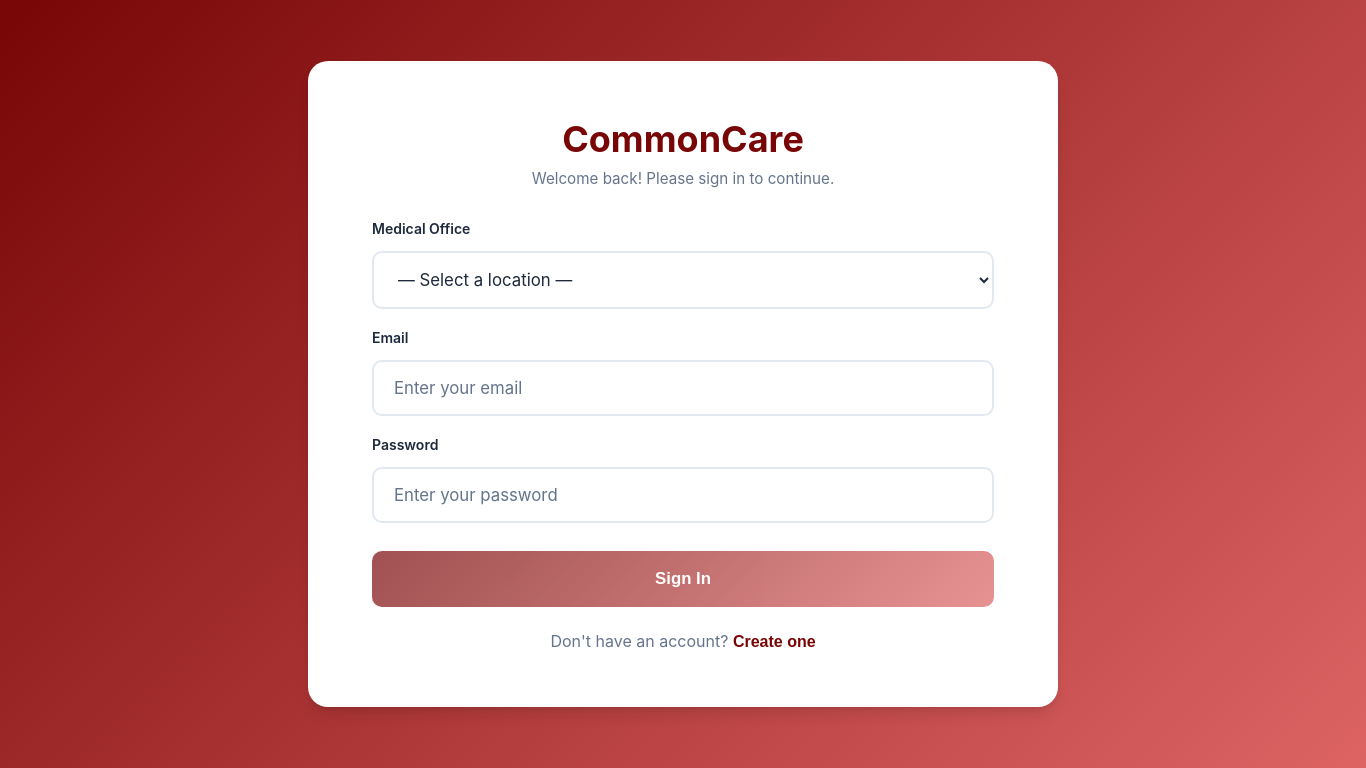
Scenario: Login component › location selection › auto-fills password when a location is selected
Select "Charlotte Medical Center" in the dropdown labelled "Medical Office": (683, 280) [372,251,994,309]
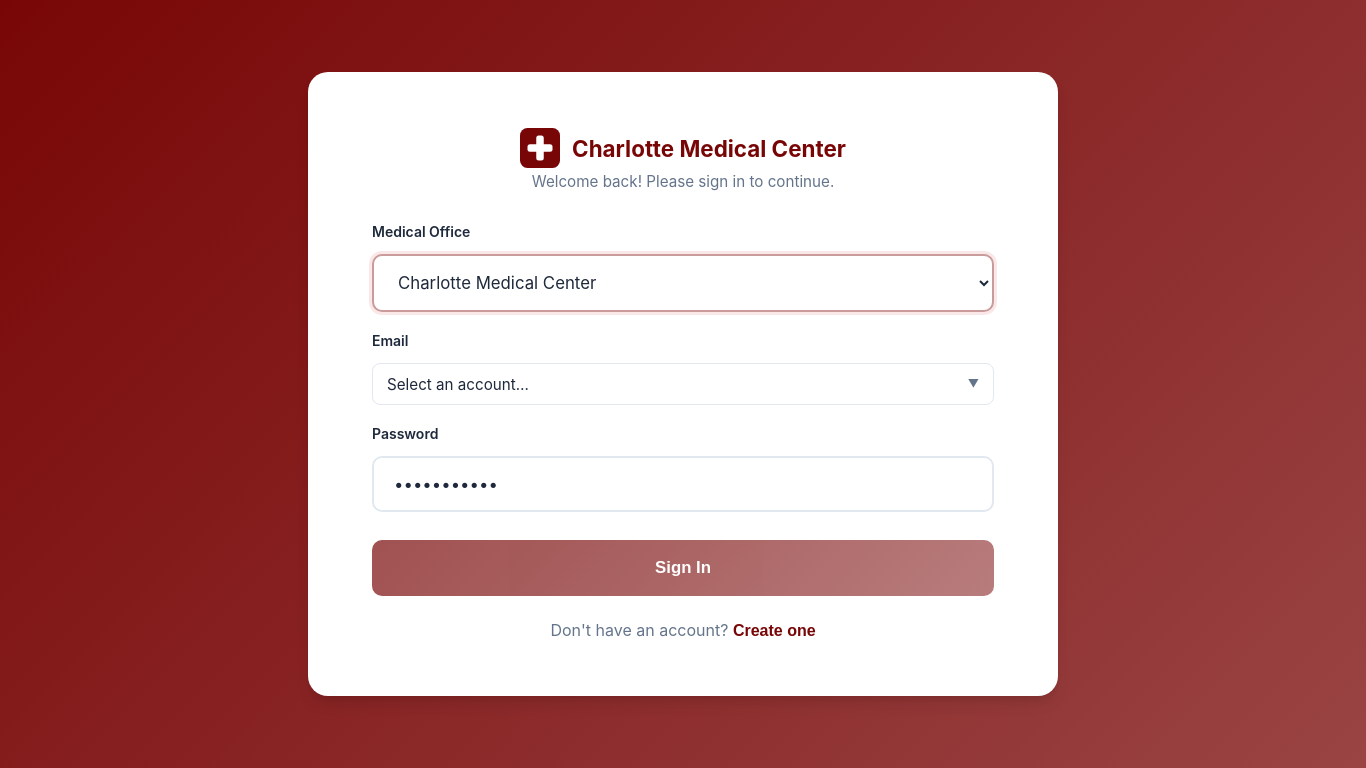
Check: the password field labelled "Password" holds "password123", box [372,456,994,512]
